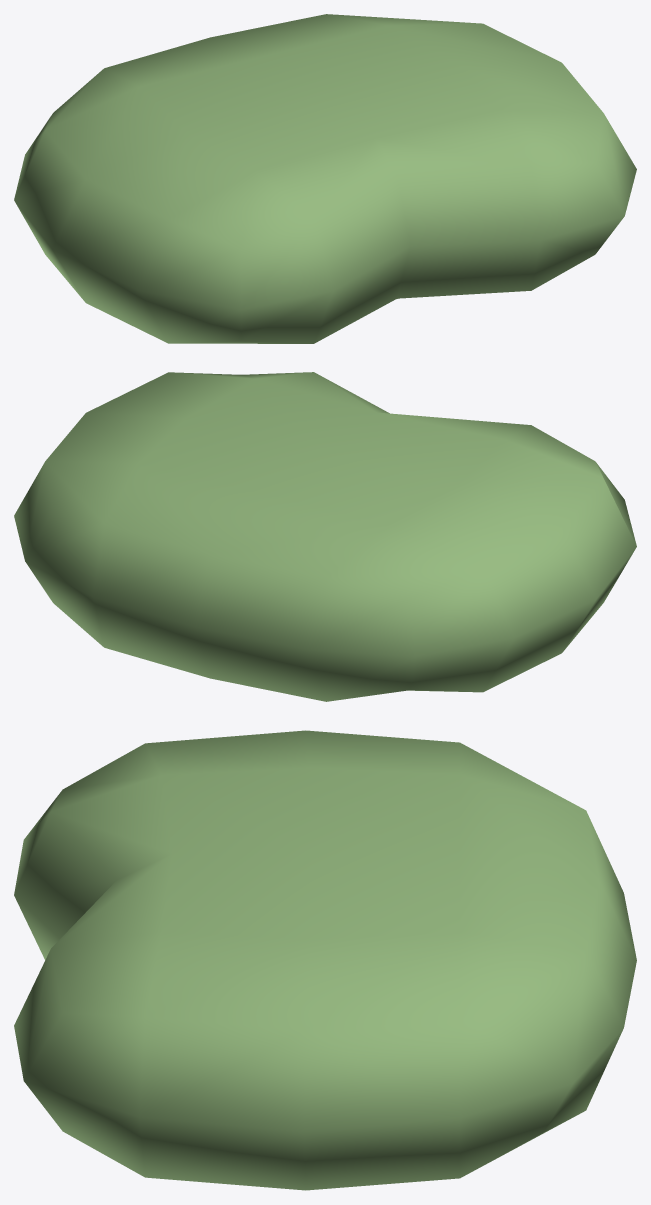
Rendered from lilly leaf.fbx.
3 renders of one model, top to bottom at view 1: azimuth 30°, elevation 25°; view 2: azimuth 150°, elevation 25°; view 3: azimuth 270°, elevation 25°, orthographic. The views are drawn at different scales.
Visible parts, largest first — view 1: pCube23; view 2: pCube23; view 3: pCube23.
Part boxes in pixels (left/top/right/bottom): pCube23: left=14, top=14, right=636, bottom=343; pCube23: left=14, top=372, right=636, bottom=701; pCube23: left=14, top=730, right=636, bottom=1190.
Bounding box in the file's own units: 105 × 30.54 × 80.67.
